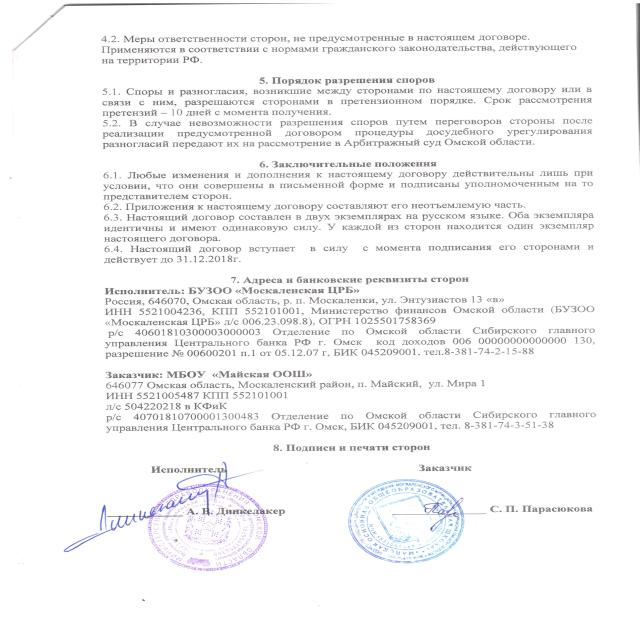stamps: (324, 446, 603, 590), (75, 455, 314, 603)
